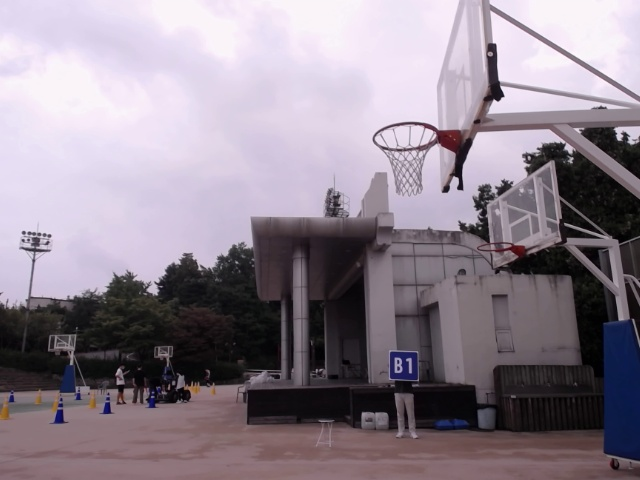delivery_b1: (388, 350, 419, 381)
